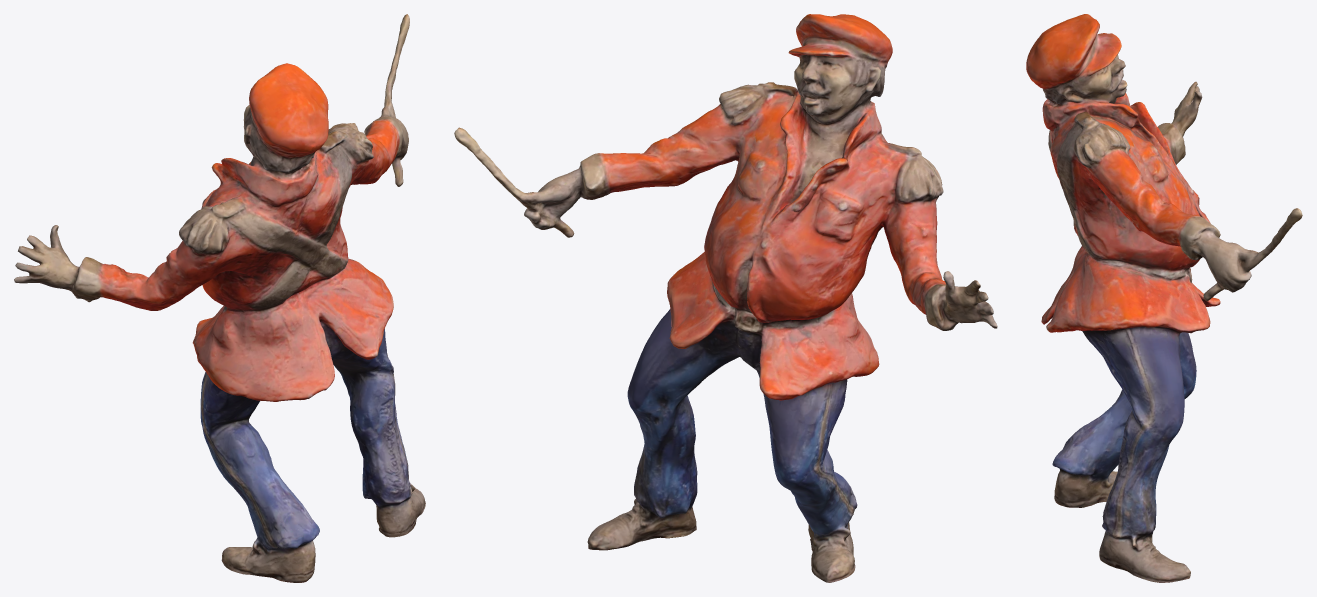
Rendered from khanna-kc-the-bandmaster.glb.
3 renders of one model, left to right at view 1: azimuth 30°, elevation 25°; view 2: azimuth 150°, elevation 25°; view 3: azimuth 270°, elevation 25°, orthographic. The views are drawn at different scales.
Parts seen in each view (by area): view 1: Mesh_001; view 2: Mesh_001; view 3: Mesh_001.
Part boxes in pixels (left/top/right/bottom): Mesh_001: left=14, top=14, right=425, bottom=582; Mesh_001: left=454, top=14, right=997, bottom=582; Mesh_001: left=1026, top=14, right=1302, bottom=582.
Bounding box in the file's own units: 38.67 × 41.21 × 21.5.
Materials: 1 (1 with a texture image).
